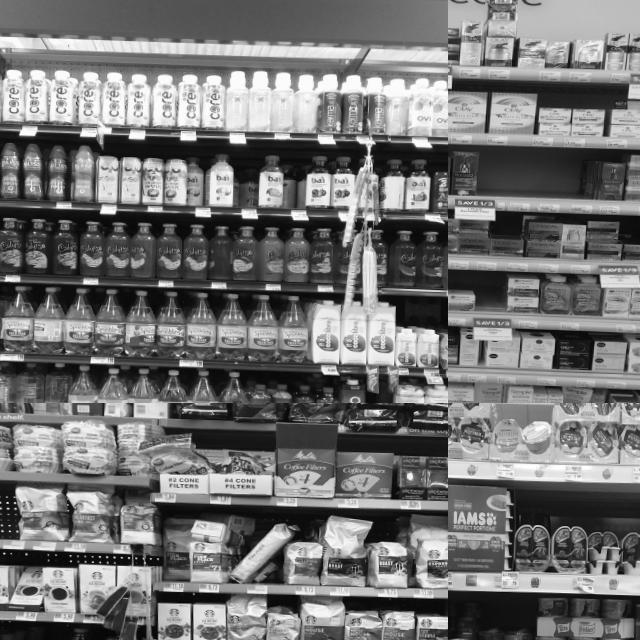empty: (506, 148, 536, 212), (478, 148, 508, 210), (474, 274, 508, 328), (536, 150, 562, 212), (562, 149, 586, 213), (0, 487, 15, 549), (38, 624, 66, 640)
